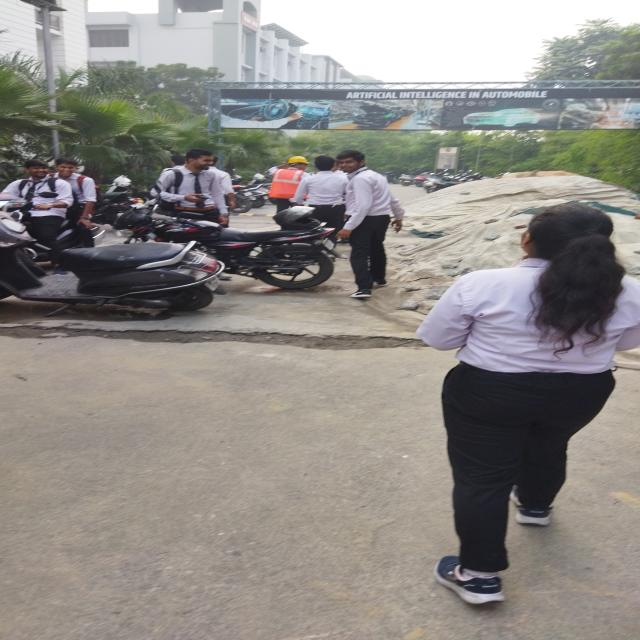safe: (264, 154, 309, 214)
unsafe: (422, 203, 640, 620), (334, 149, 405, 300), (2, 158, 69, 270), (160, 148, 236, 228), (53, 158, 99, 247), (303, 154, 351, 233)
